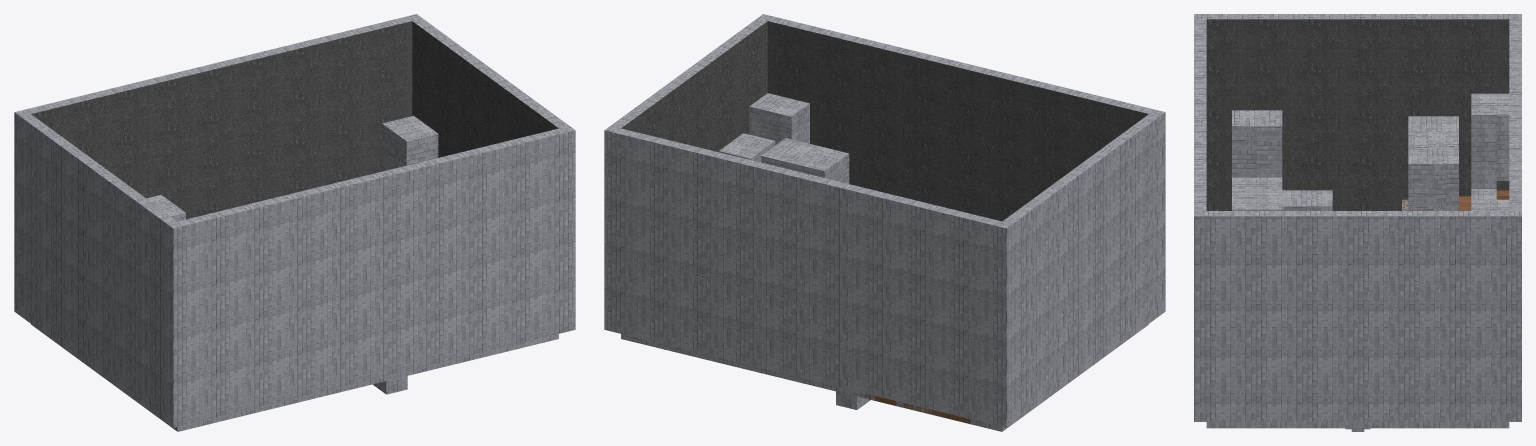
Rendered from GreaseDM.glb.
The picture shows the model from 3 angles, left to right: view 1: azimuth 30°, elevation 25°; view 2: azimuth 150°, elevation 25°; view 3: azimuth 270°, elevation 25°; orthographic projection. The views are drawn at different scales.
Parts seen in each view (by area): view 1: Map; view 2: Map; view 3: Map.
Boxes of the visible parts, <box> form: Map: <box>14,14,575,431</box>; Map: <box>604,14,1165,431</box>; Map: <box>1194,14,1521,431</box>.
Bounding box in the file's own units: 87.3 × 47.1 × 59.73.
Materials: 4 (4 with a texture image).
